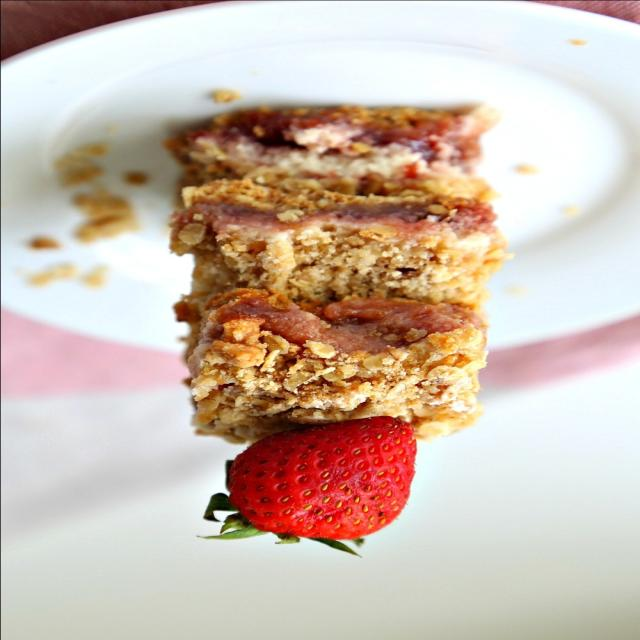strawberry: (197, 400, 529, 634)
